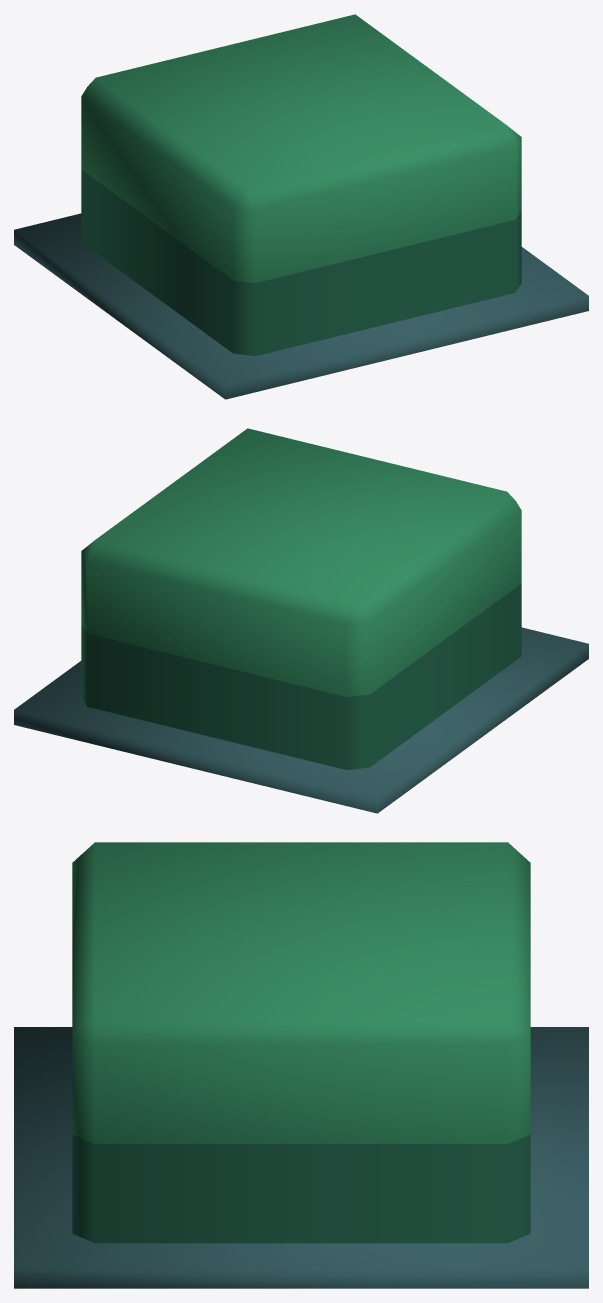
File: RoofAdd_2_B_5.glb
3 views of the same model, one above another, from view 1: azimuth 30°, elevation 25°; view 2: azimuth 150°, elevation 25°; view 3: azimuth 270°, elevation 25° (orthographic). The views are drawn at different scales.
Visible parts, largest first — view 1: RoofAdd_2_B_5; view 2: RoofAdd_2_B_5; view 3: RoofAdd_2_B_5.
Part boxes in pixels (x1,y1,x2,y2): RoofAdd_2_B_5: [14, 14, 588, 399]; RoofAdd_2_B_5: [14, 428, 588, 813]; RoofAdd_2_B_5: [14, 842, 588, 1288].
Bounding box in the file's own units: 1.6 × 0.7417 × 1.61.
1 material, 1 textured.
